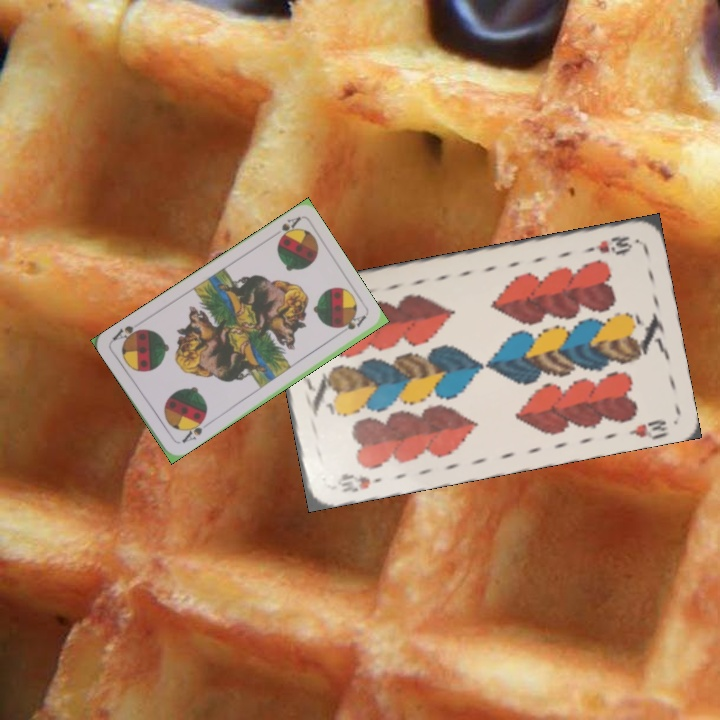H10: (333, 469, 385, 495), (579, 232, 635, 256)
SA: (266, 213, 303, 243), (177, 414, 208, 446)
